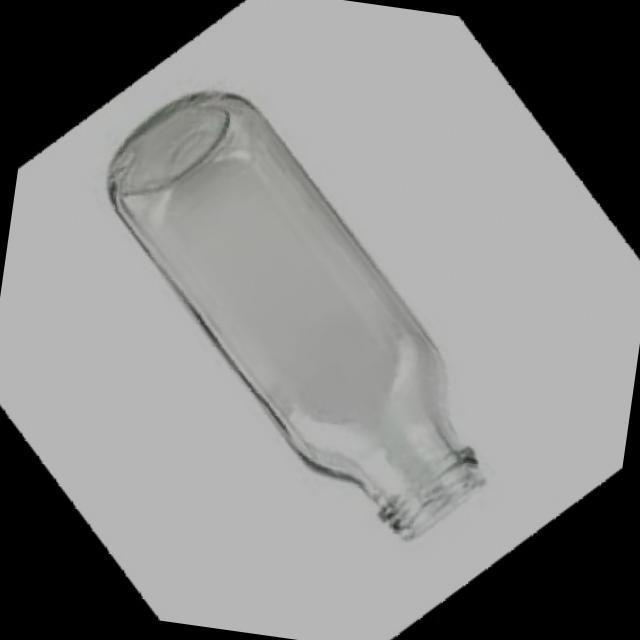Glass: (105, 90, 488, 542)
